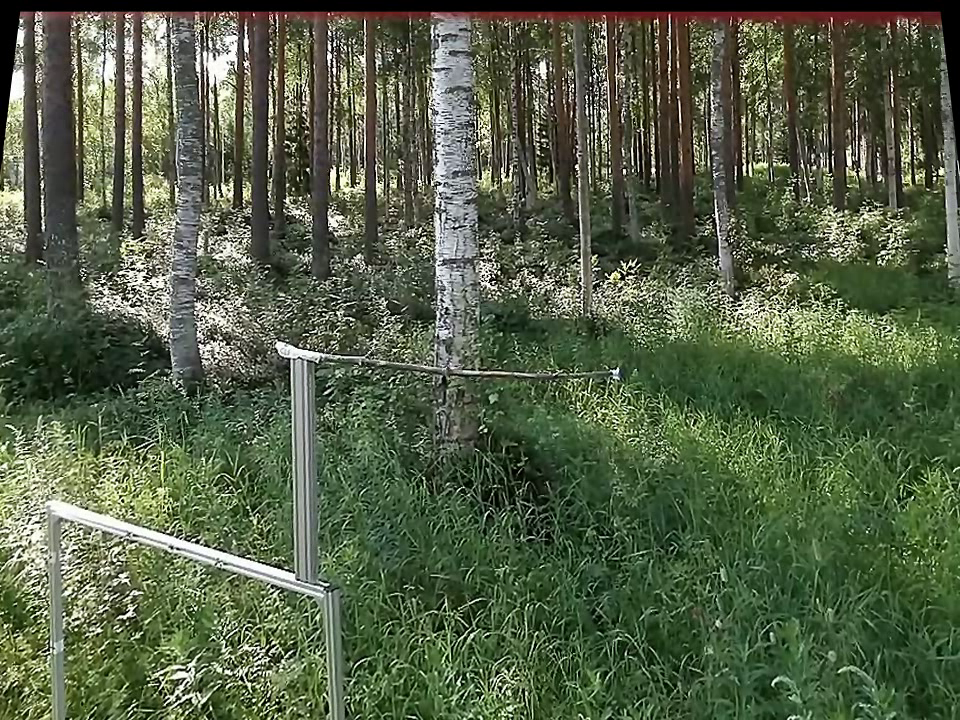aluminum_frame: (48, 492, 325, 599), (283, 359, 320, 582), (39, 503, 70, 716), (319, 579, 349, 717)
branch: (329, 344, 608, 395)
